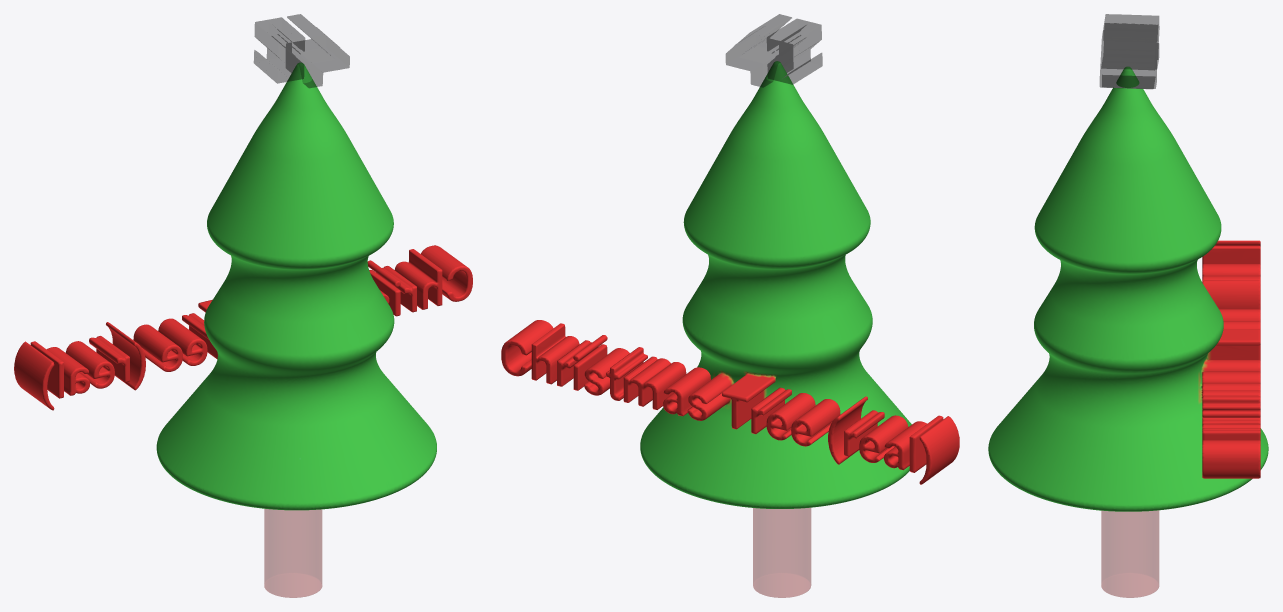
Rendered from christmas-tree-zlee.glb.
The picture shows the model from 3 angles, left to right: view 1: azimuth 30°, elevation 25°; view 2: azimuth 150°, elevation 25°; view 3: azimuth 270°, elevation 25°; orthographic projection.
Visible parts, largest first — view 1: Area (1), Area (2), -JMuOmlW; view 2: Area (1), Area (2), -JMuOmlW; view 3: Area (1), Area (2), -JMuOmlW.
Boxes of the visible parts, left/top/right/bottom form: Area (1): left=14, top=62, right=472, bottom=510; Area (2): left=264, top=509, right=322, bottom=597; -JMuOmlW: left=254, top=14, right=349, bottom=87; Area (1): left=501, top=61, right=959, bottom=508; Area (2): left=753, top=508, right=811, bottom=597; -JMuOmlW: left=726, top=14, right=822, bottom=87; Area (1): left=988, top=67, right=1268, bottom=511; Area (2): left=1101, top=510, right=1158, bottom=597; -JMuOmlW: left=1100, top=14, right=1159, bottom=88.
Bounding box in the file's own units: 106 × 132 × 60.03.
Materials: 3 (3 with a texture image).
